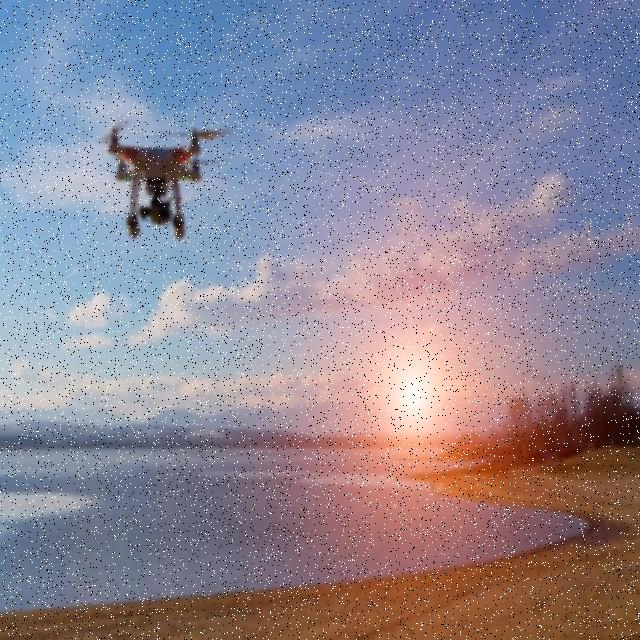UAV: (106, 118, 206, 242)
